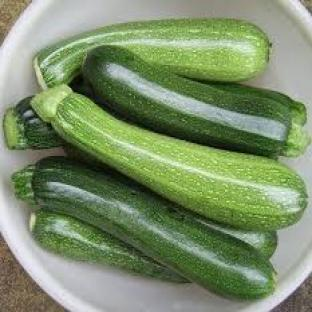Zucchini: (31, 86, 306, 229), (13, 158, 274, 298), (84, 47, 309, 157), (34, 19, 270, 88), (30, 210, 187, 283), (213, 84, 310, 157), (177, 207, 278, 257), (3, 97, 61, 150)
